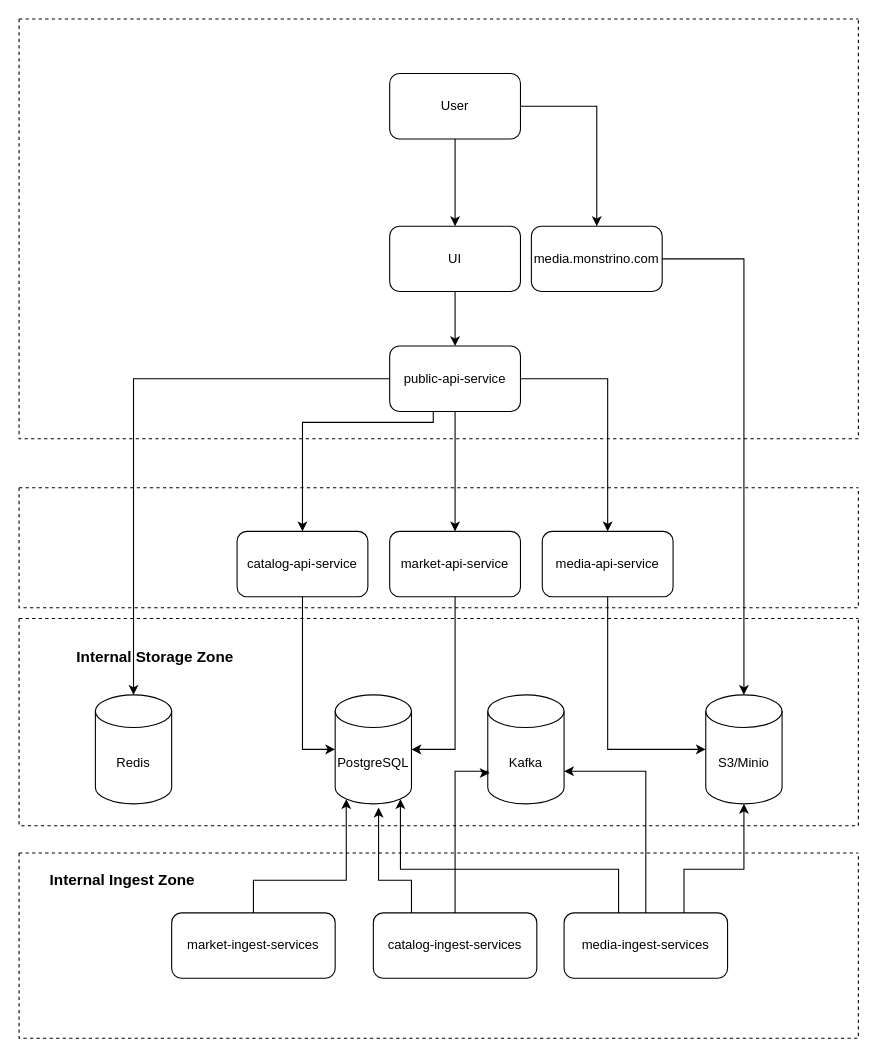
The diagram is 877 pixels wide and 1057 high, and some of its shapes have lost their labels. The shapes that lost their labels are listed below. From the top down, each one's centre as x and y in pixels, then its label:
[438,228]: Public Zone
[438,547]: Internal API Service Zone
